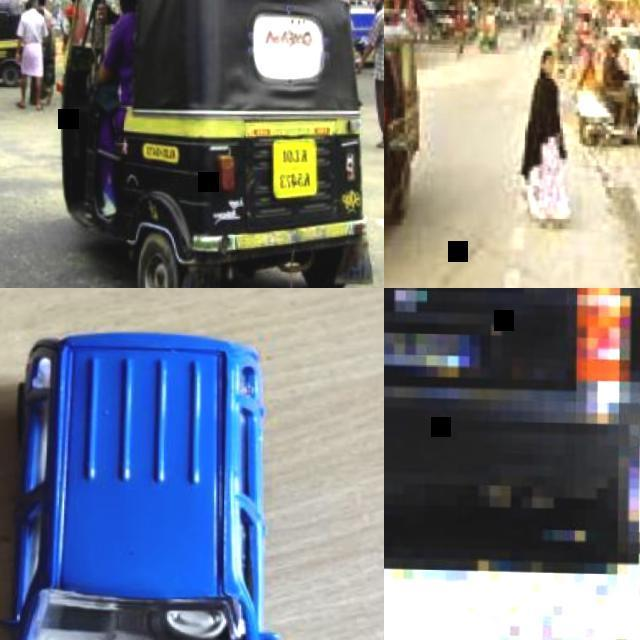car: (83, 0, 373, 293)
